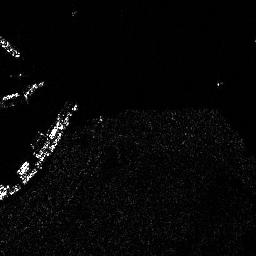ship: (1, 36, 22, 57)
